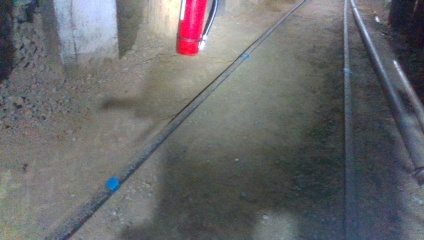fire_extinguisher: (175, 0, 217, 57)
